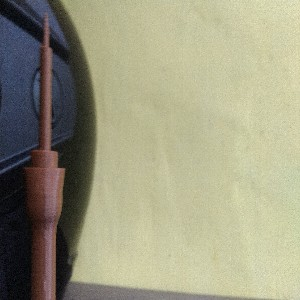solder: (25, 10, 65, 300)
